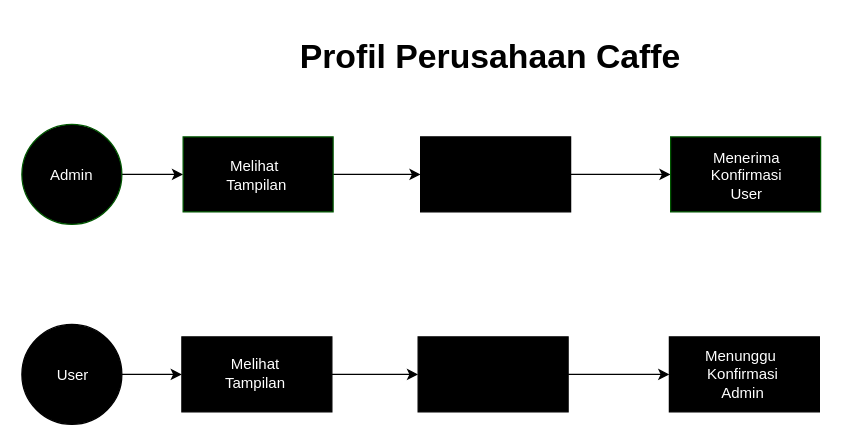
Some shapes in this 843 by 446 pixel diagram are drawn without their labels. The centre of each missing label's shape, as x and y in pixels:
Menghubungi Admin: the point at 492,374
Update Data: the point at 495,174
